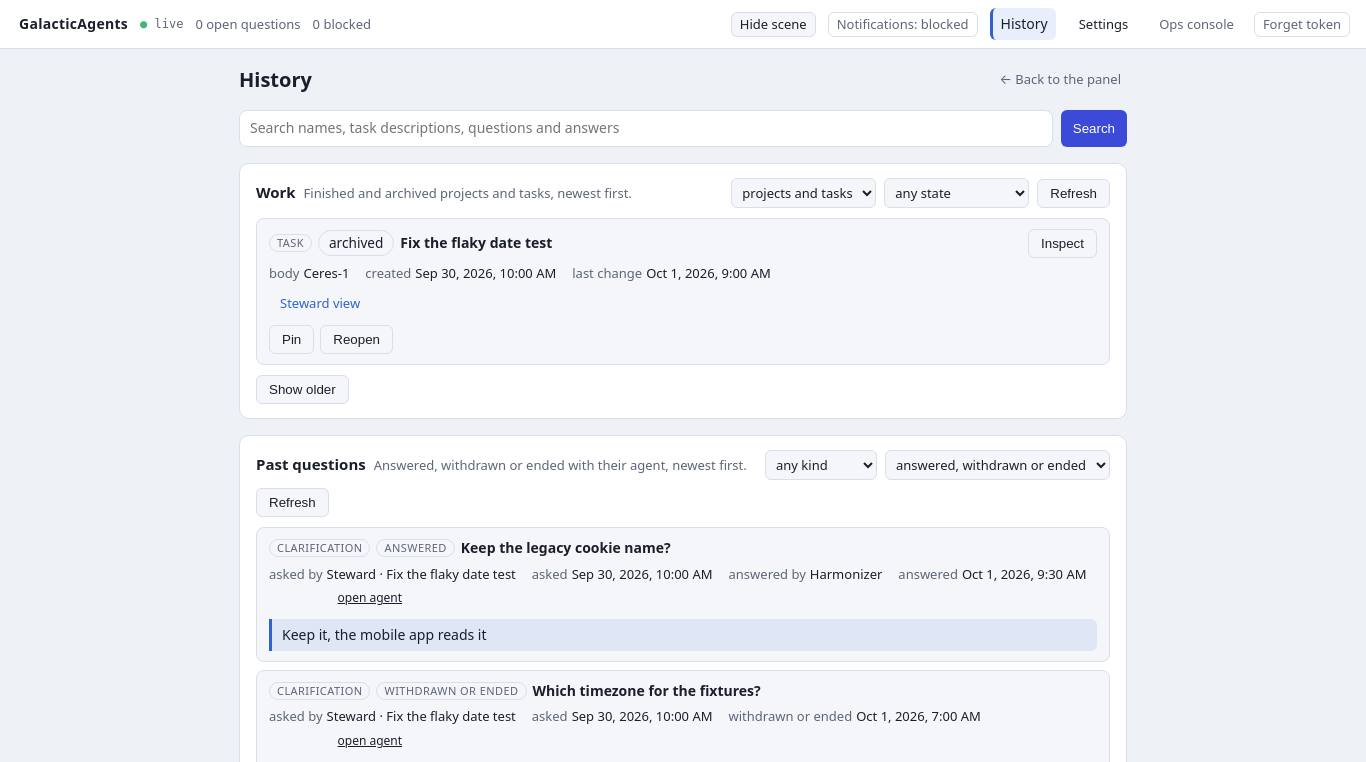
history inspector (P5-03) › finds an archived project, inspects it and reopens it (acceptance)
Type "old site" into the search field named "Search the history" at point(646, 128), box [239,110,1053,147]
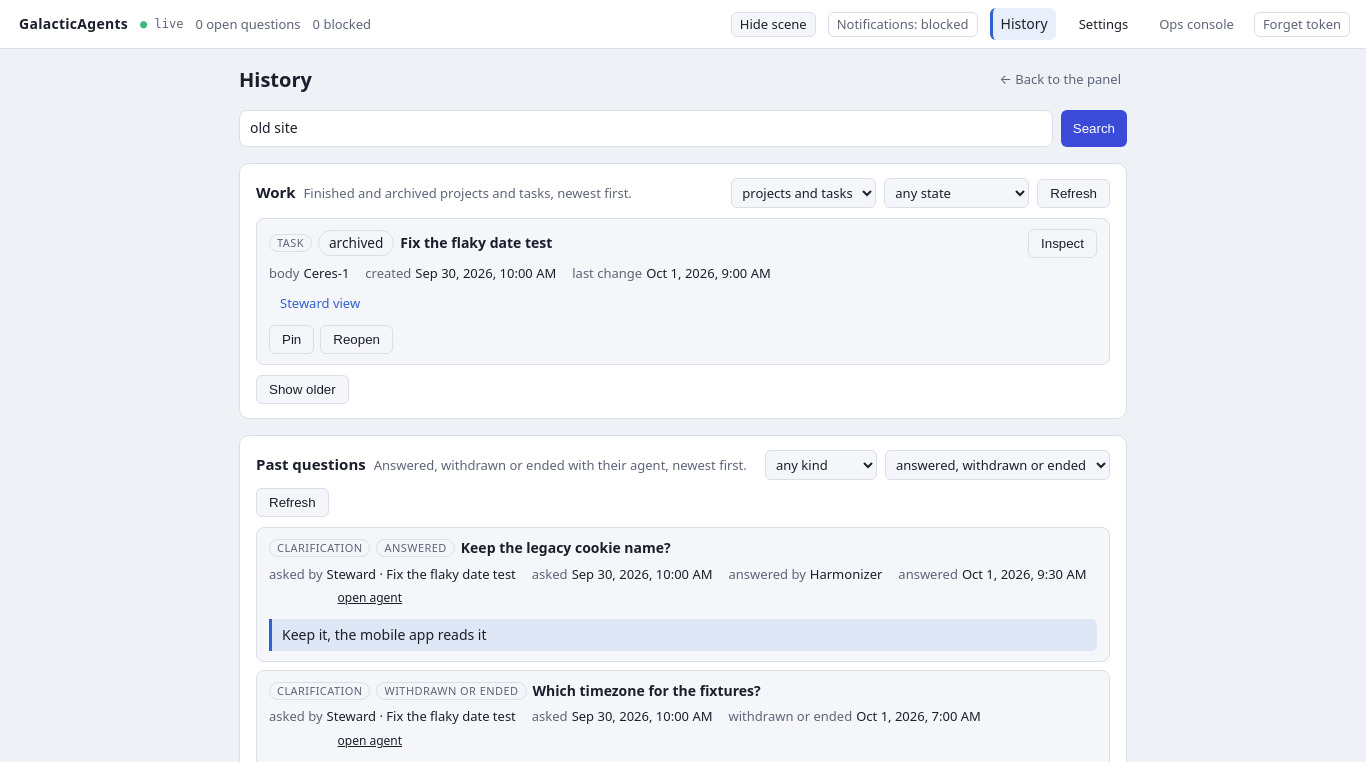
Submit the form, box [239,110,1127,147]
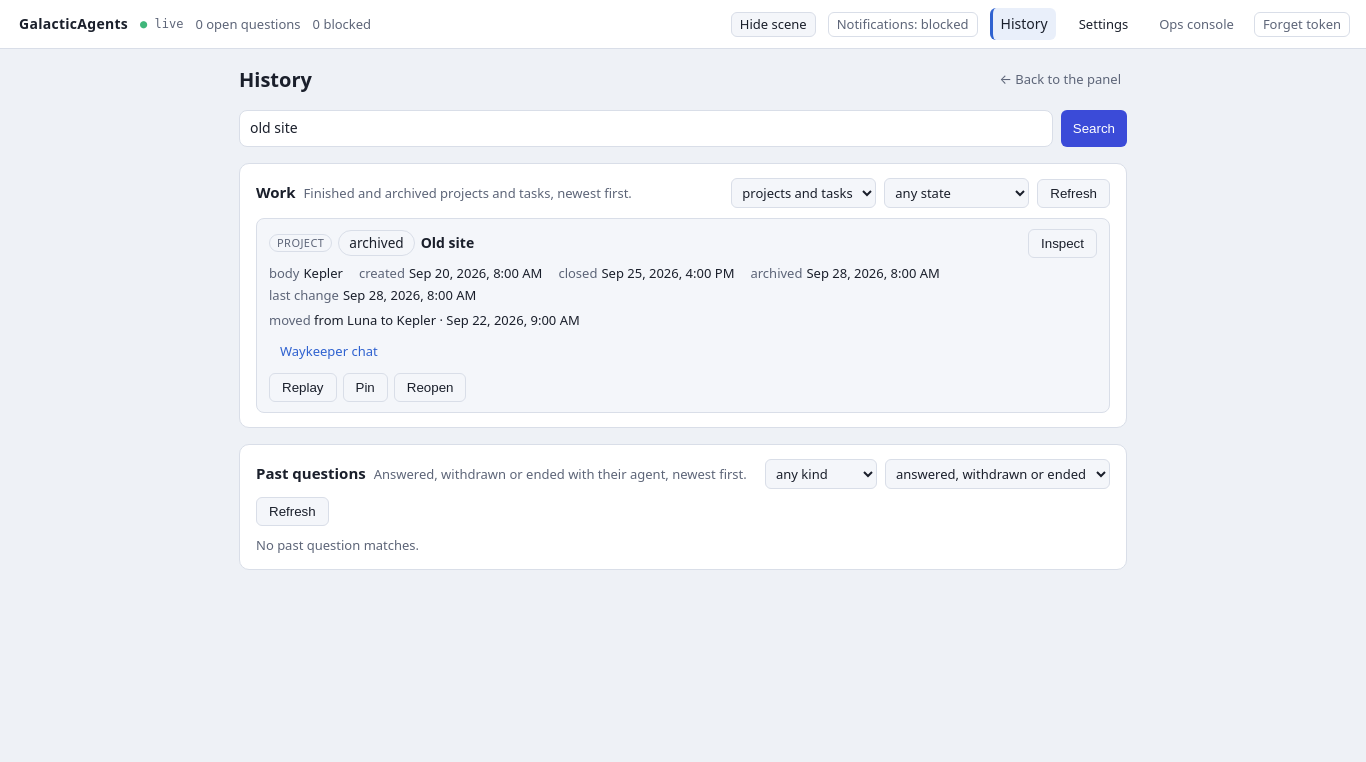
Expected: the list named "moves of Old site" shows "from Luna to Kepler", [269,311,580,329]
Click the button with aria-label "Inspect Old site" at point(1062, 243), box [1028,229,1097,258]
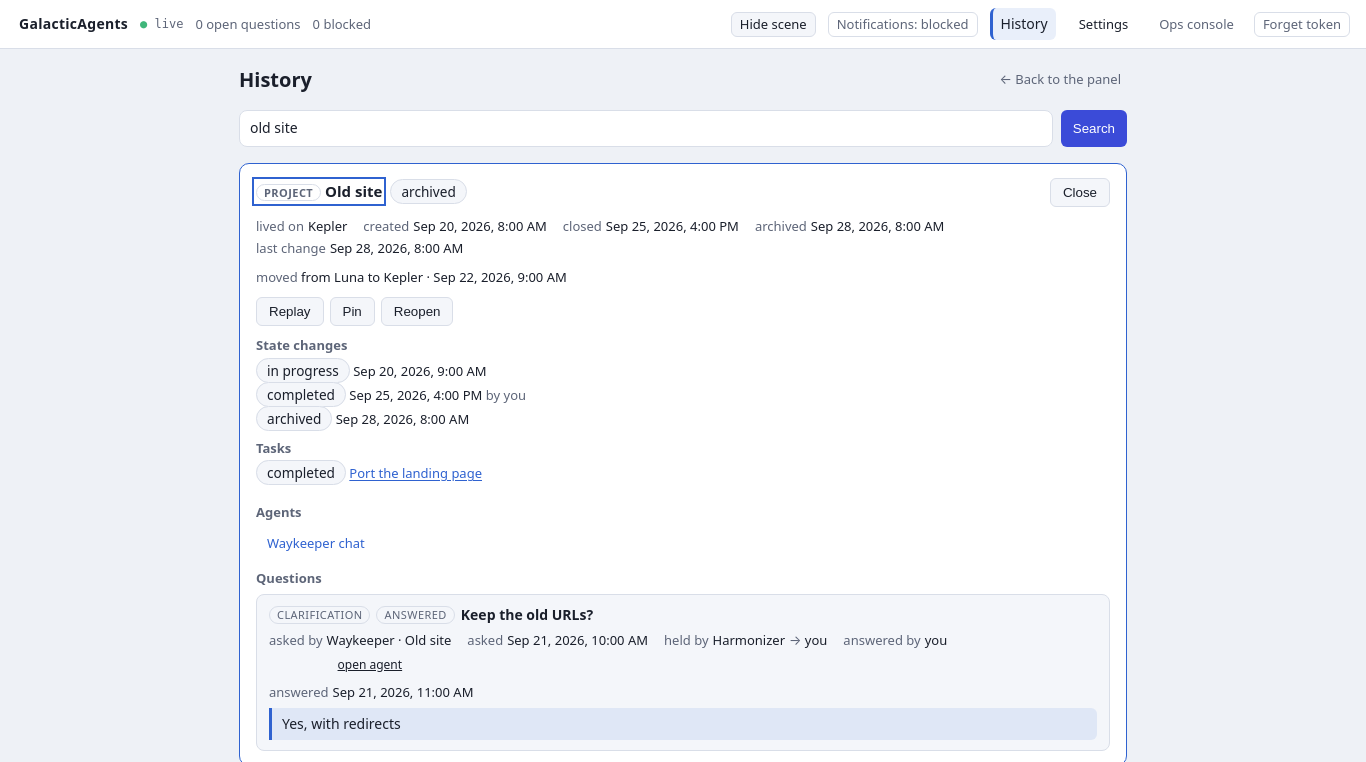
Expected: the text "Kepler" is shown, [308,217,347,235]
Expected: the text "you" is shown, [925,631,947,649]
Click the button "Reopen" at point(417, 312), box [381,297,454,326]
(page scrolled)
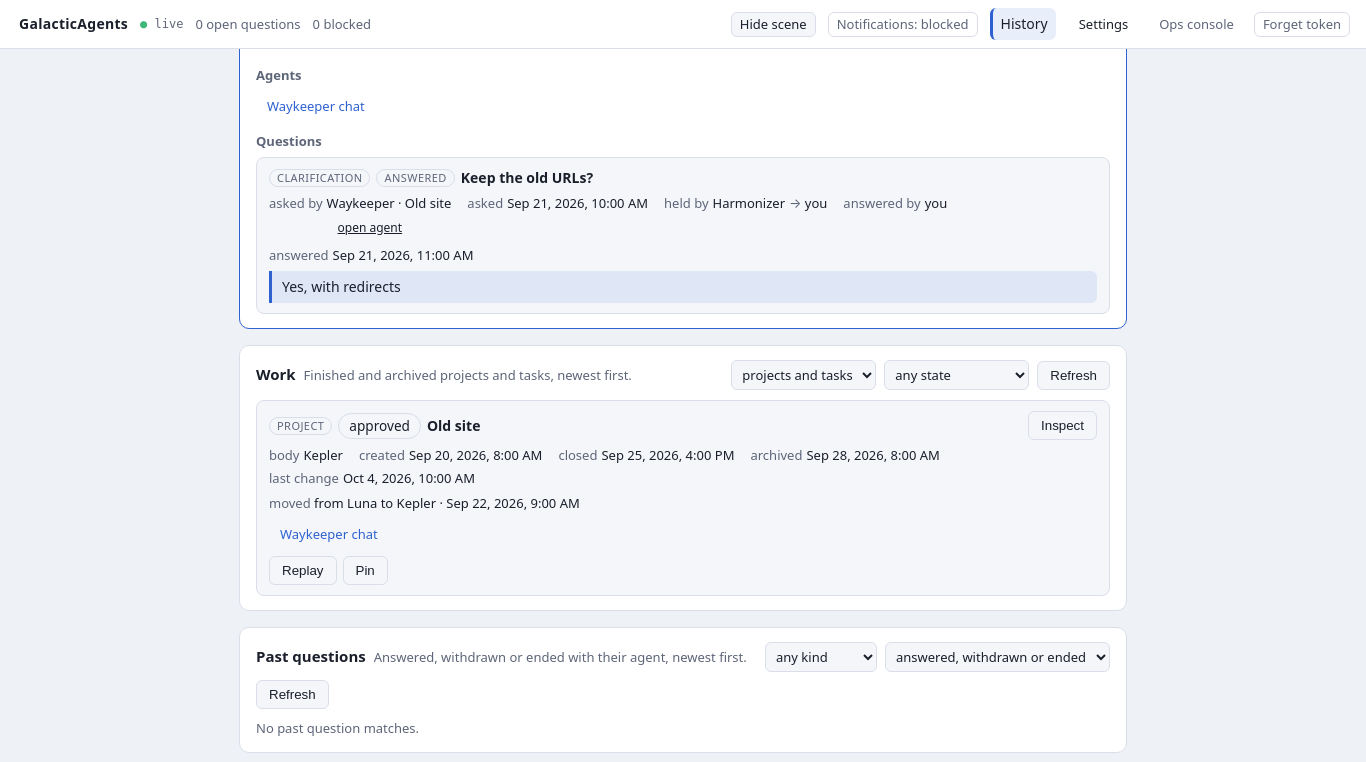
Expected: the text "approved" is shown, [338,413,421,439]
